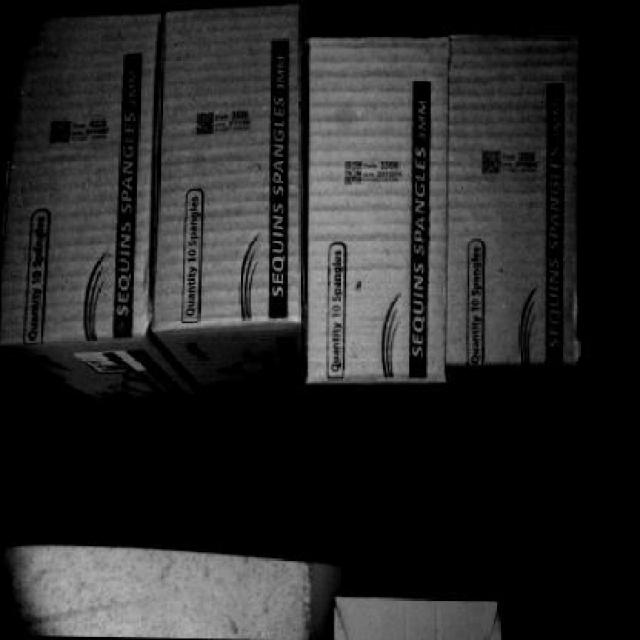cardboxes: (2, 8, 158, 344), (305, 33, 449, 384), (154, 8, 304, 328), (446, 36, 580, 358)
